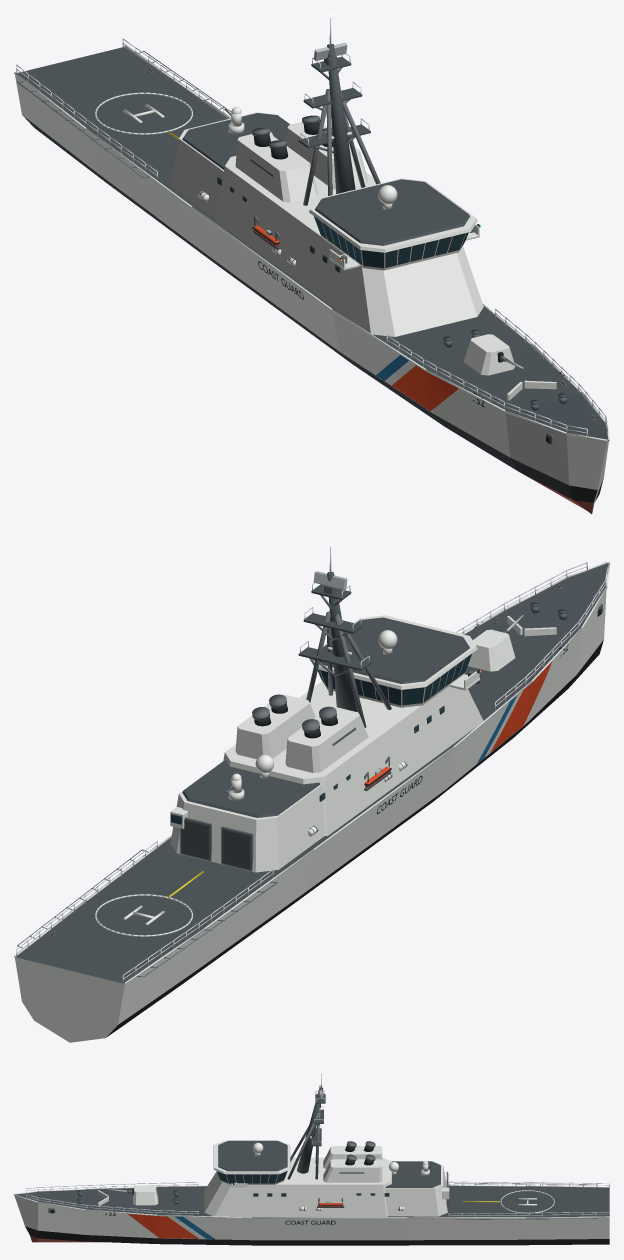
File: national_security_cutter.glb
3 renders of one model, top to bottom at view 1: azimuth 30°, elevation 25°; view 2: azimuth 150°, elevation 25°; view 3: azimuth 270°, elevation 25°, orthographic. The views are drawn at different scales.
Parts seen in each view (by area): view 1: national_security_cutter; view 2: national_security_cutter; view 3: national_security_cutter.
Part boxes in pixels (box(x1,y1,x2,y2)): national_security_cutter: box(14, 14, 609, 514); national_security_cutter: box(14, 543, 609, 1042); national_security_cutter: box(14, 1071, 609, 1245).
Bounding box in the file's own units: 19.18 × 40.17 × 127.
